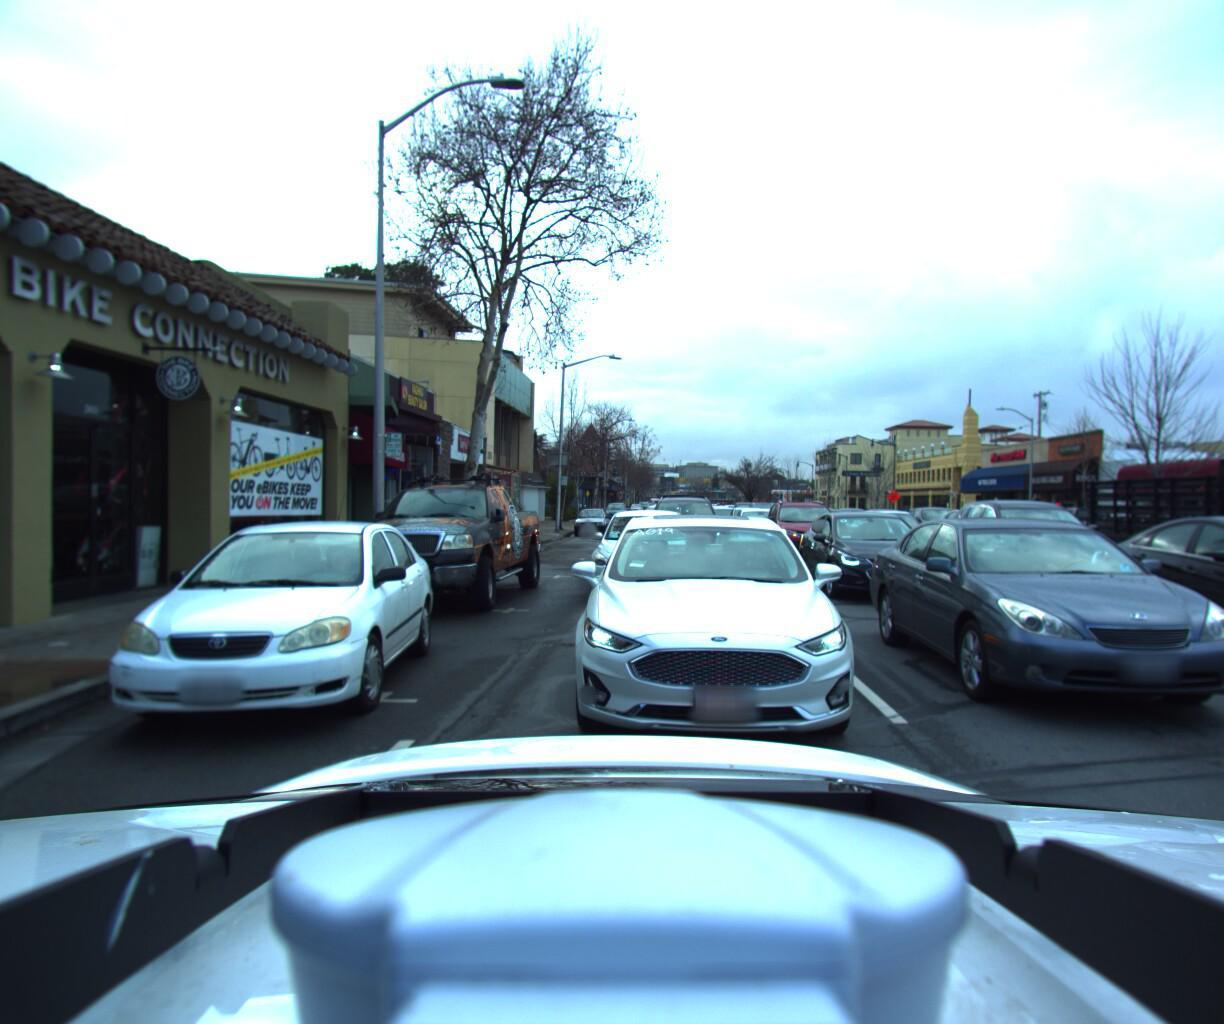car: (553, 500, 900, 787), (61, 518, 440, 758), (859, 514, 1224, 749), (322, 464, 549, 622), (1086, 507, 1224, 712), (940, 499, 1162, 613), (789, 505, 956, 602), (582, 505, 705, 612), (751, 498, 859, 573), (1020, 502, 1149, 549), (849, 506, 948, 564), (651, 490, 725, 562), (890, 503, 977, 548), (727, 504, 798, 553), (849, 505, 914, 543), (718, 504, 778, 541), (822, 506, 875, 536), (573, 505, 610, 538), (603, 503, 624, 523)
truck: (1063, 451, 1224, 639)
